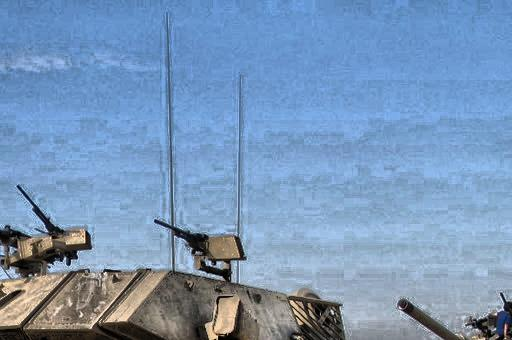tanks: (1, 237, 348, 340), (399, 301, 470, 340), (470, 317, 500, 340)
